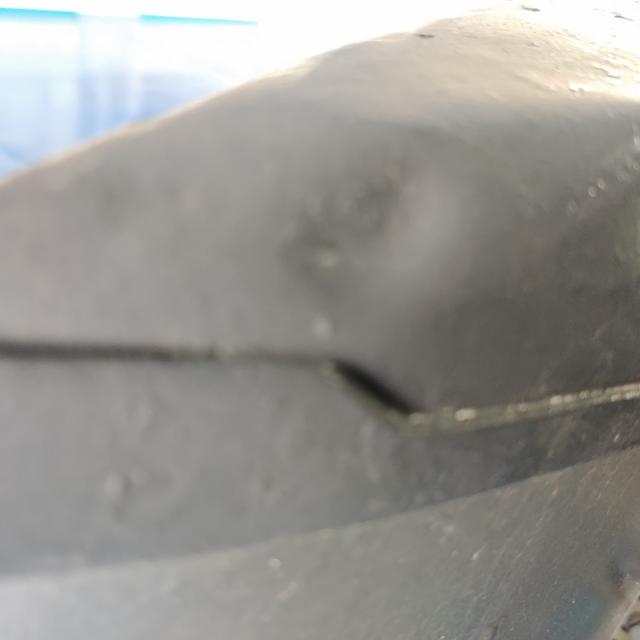dent: (258, 136, 489, 326)
